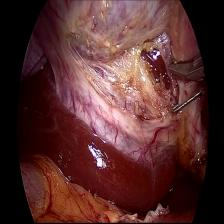Clipper: (168, 46, 209, 90)
